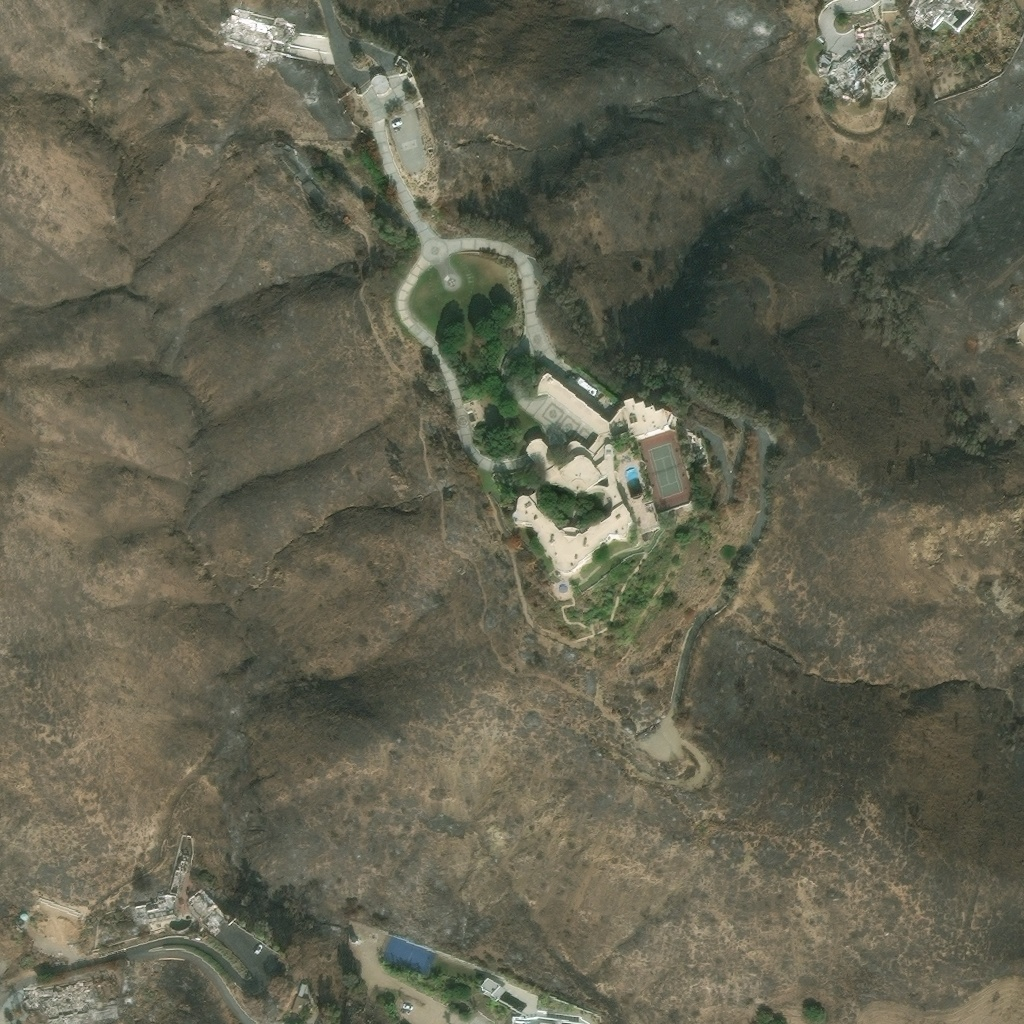0 no-damage: (523, 373, 678, 515), (509, 483, 634, 578), (476, 976, 591, 1023), (463, 400, 489, 430), (370, 74, 391, 98), (290, 996, 310, 1017), (296, 983, 307, 997), (19, 913, 28, 921)
3 destroyed: (814, 22, 887, 105), (20, 981, 117, 1022), (223, 9, 296, 57), (909, 0, 972, 26), (186, 891, 226, 931), (131, 894, 175, 926), (301, 179, 330, 210), (275, 155, 299, 179), (175, 853, 189, 874), (168, 874, 182, 895), (273, 142, 292, 154), (305, 92, 313, 102)
